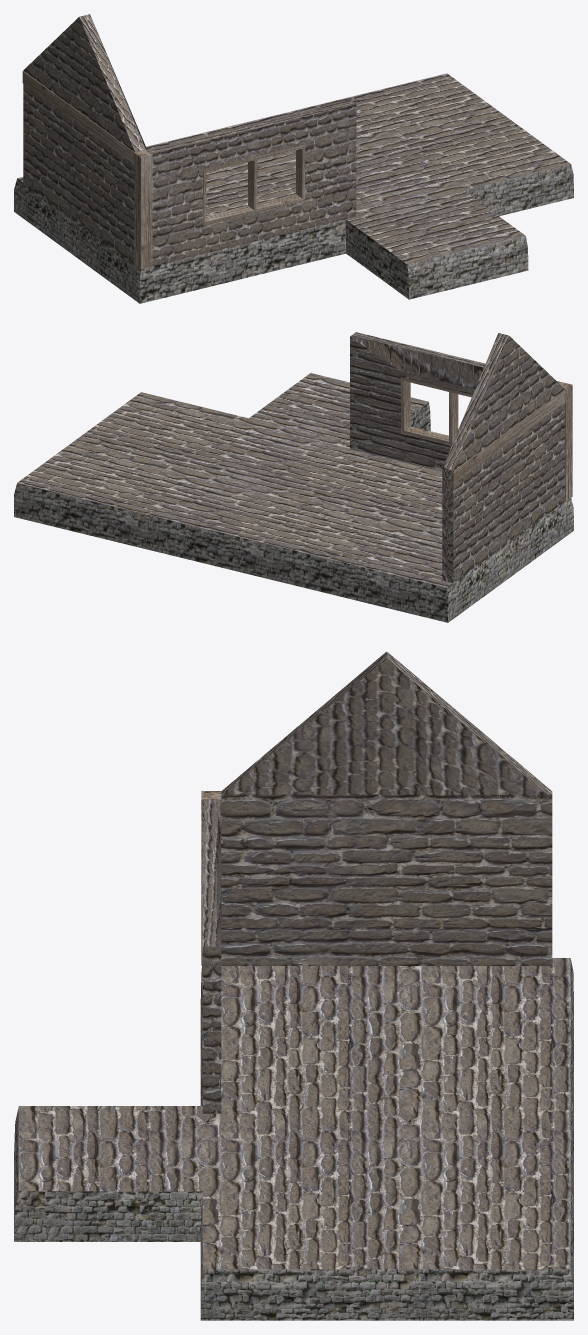
File: house3.obj
3 renders of one model, top to bottom at view 1: azimuth 30°, elevation 25°; view 2: azimuth 150°, elevation 25°; view 3: azimuth 270°, elevation 25°, orthographic. The views are drawn at different scales.
Parts seen in each view (by area): view 1: Plane, Cube.002, Cube.003, Cube.015, Cube.026, Cube.028, Cube.030, Cube.029, Cube.027; view 2: Plane, Cube.003, Cube.002, Cube.026, Cube.015, Cube.030, Cube.029, Cube.028; view 3: Plane, Cube.003, Cube.002.
Part boxes in pixels (box(x1,y1,x2,y2)): Plane: box(14, 73, 573, 303); Cube.002: box(147, 99, 356, 265); Cube.003: box(23, 14, 145, 263); Cube.015: box(134, 150, 152, 269); Cube.026: box(22, 71, 134, 164); Cube.028: box(203, 194, 305, 225); Cube.030: box(296, 148, 305, 198); Cube.029: box(248, 160, 257, 210); Cube.027: box(203, 144, 305, 172); Plane: box(14, 373, 573, 622); Cube.003: box(442, 333, 564, 582); Cube.002: box(350, 332, 559, 471); Cube.026: box(453, 389, 565, 483); Cube.015: box(559, 382, 572, 501); Cube.030: box(401, 380, 410, 430); Cube.029: box(449, 392, 458, 442); Cube.028: box(401, 426, 452, 445); Plane: box(14, 958, 573, 1320); Cube.003: box(221, 651, 552, 965); Cube.002: box(202, 799, 221, 1113).
Bounding box in the file's own units: 40.38 × 21.4 × 30.44.
6 materials, 5 textured.
